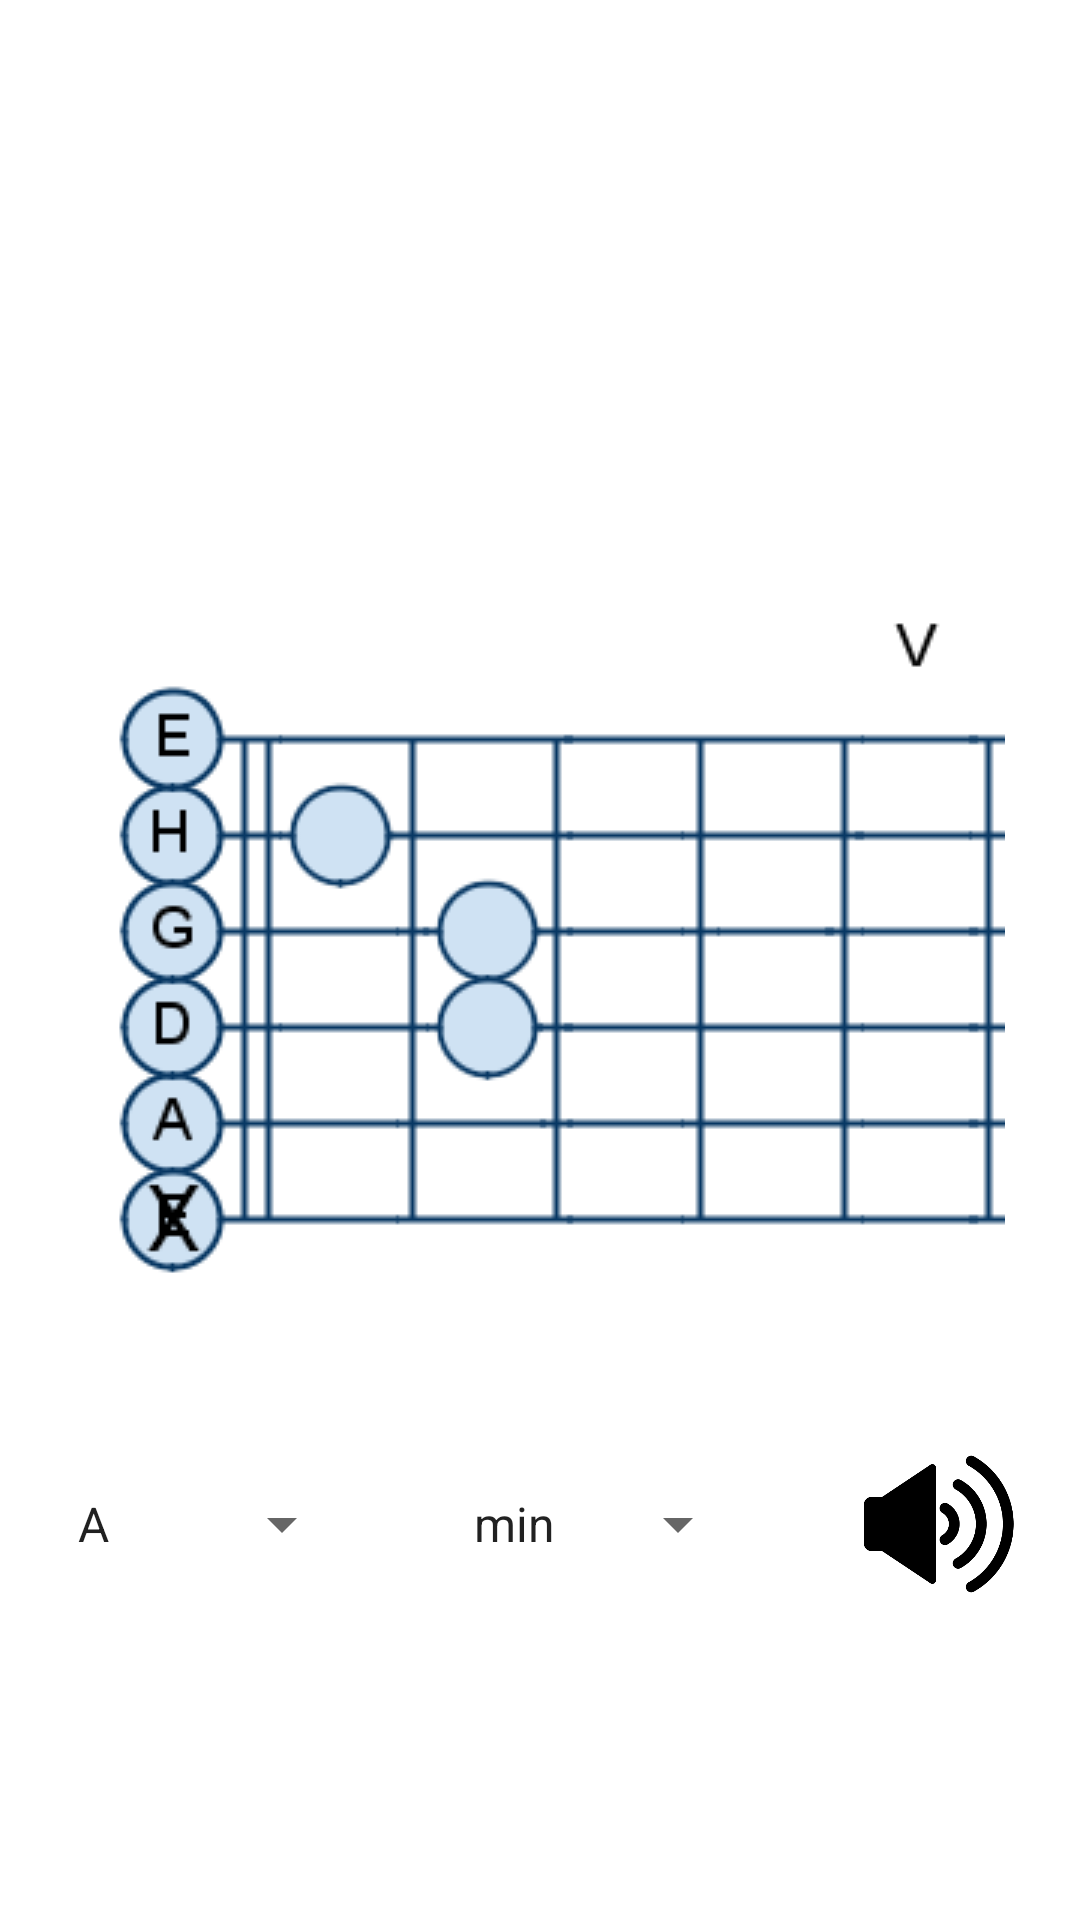

Icons on this 1080w x 1920h Android screen, each with the point to tap as point (x, y):
Chord Sound: point (939, 1524)
